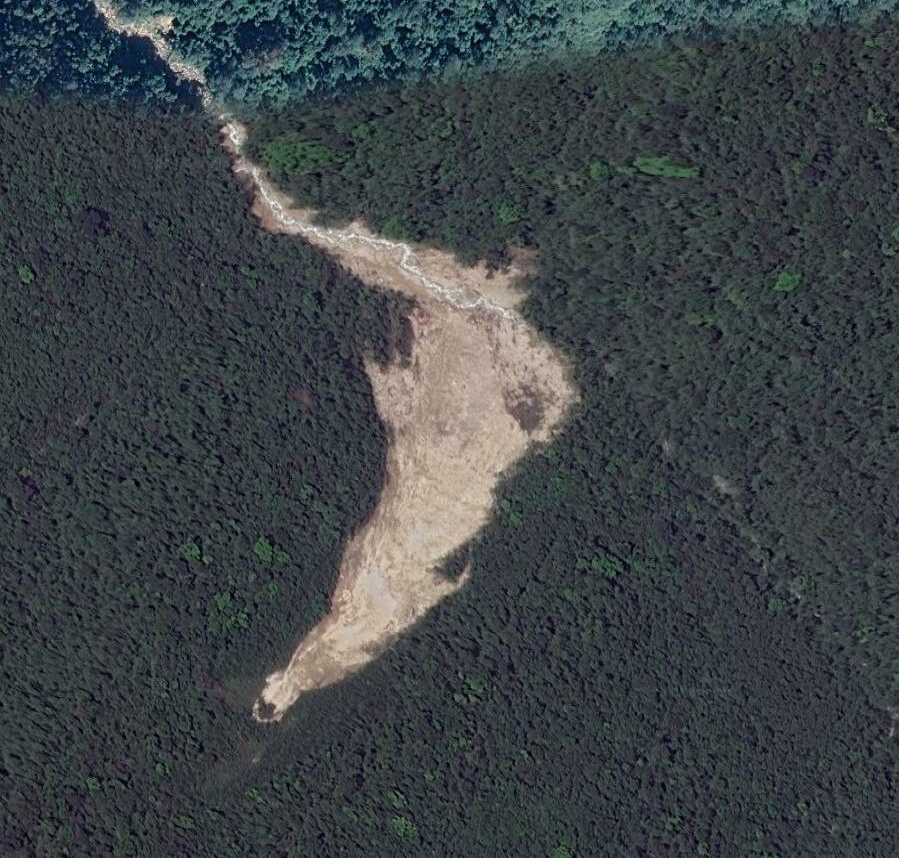slope: (217, 117, 579, 721)
